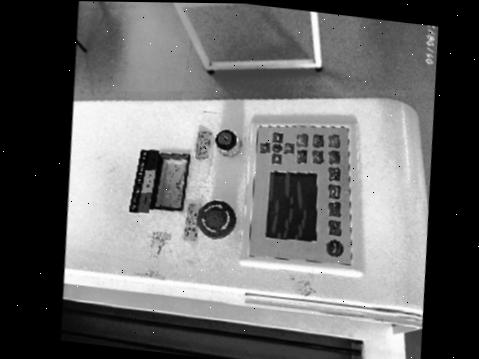Amp_Meter: (154, 153, 187, 207)
Display: (266, 171, 317, 240)
Down_button: (284, 142, 294, 152)
Emergency_Stop: (197, 199, 235, 238)
Enter_button: (297, 133, 308, 146)
Esc_button: (296, 149, 307, 162)
File_button: (328, 149, 340, 163)
Frame_button: (312, 133, 323, 146)
Left_button: (271, 152, 281, 163)
Max-Power_button: (329, 166, 340, 179)
Min-Power_button: (329, 183, 340, 197)
Origin_button: (312, 149, 323, 162)
Power_switch: (215, 128, 241, 155)
Pulse_button: (329, 219, 341, 235)
Reset_button: (326, 239, 343, 255)
Right_button: (272, 131, 283, 141)
Speed_button: (329, 201, 341, 216)
Start-Pause_button: (328, 133, 340, 146)
Up_button: (259, 141, 270, 152)
Z_U_button: (272, 142, 282, 151)
